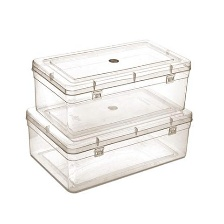plastic_box: (18, 81, 199, 196), (25, 33, 197, 146)
